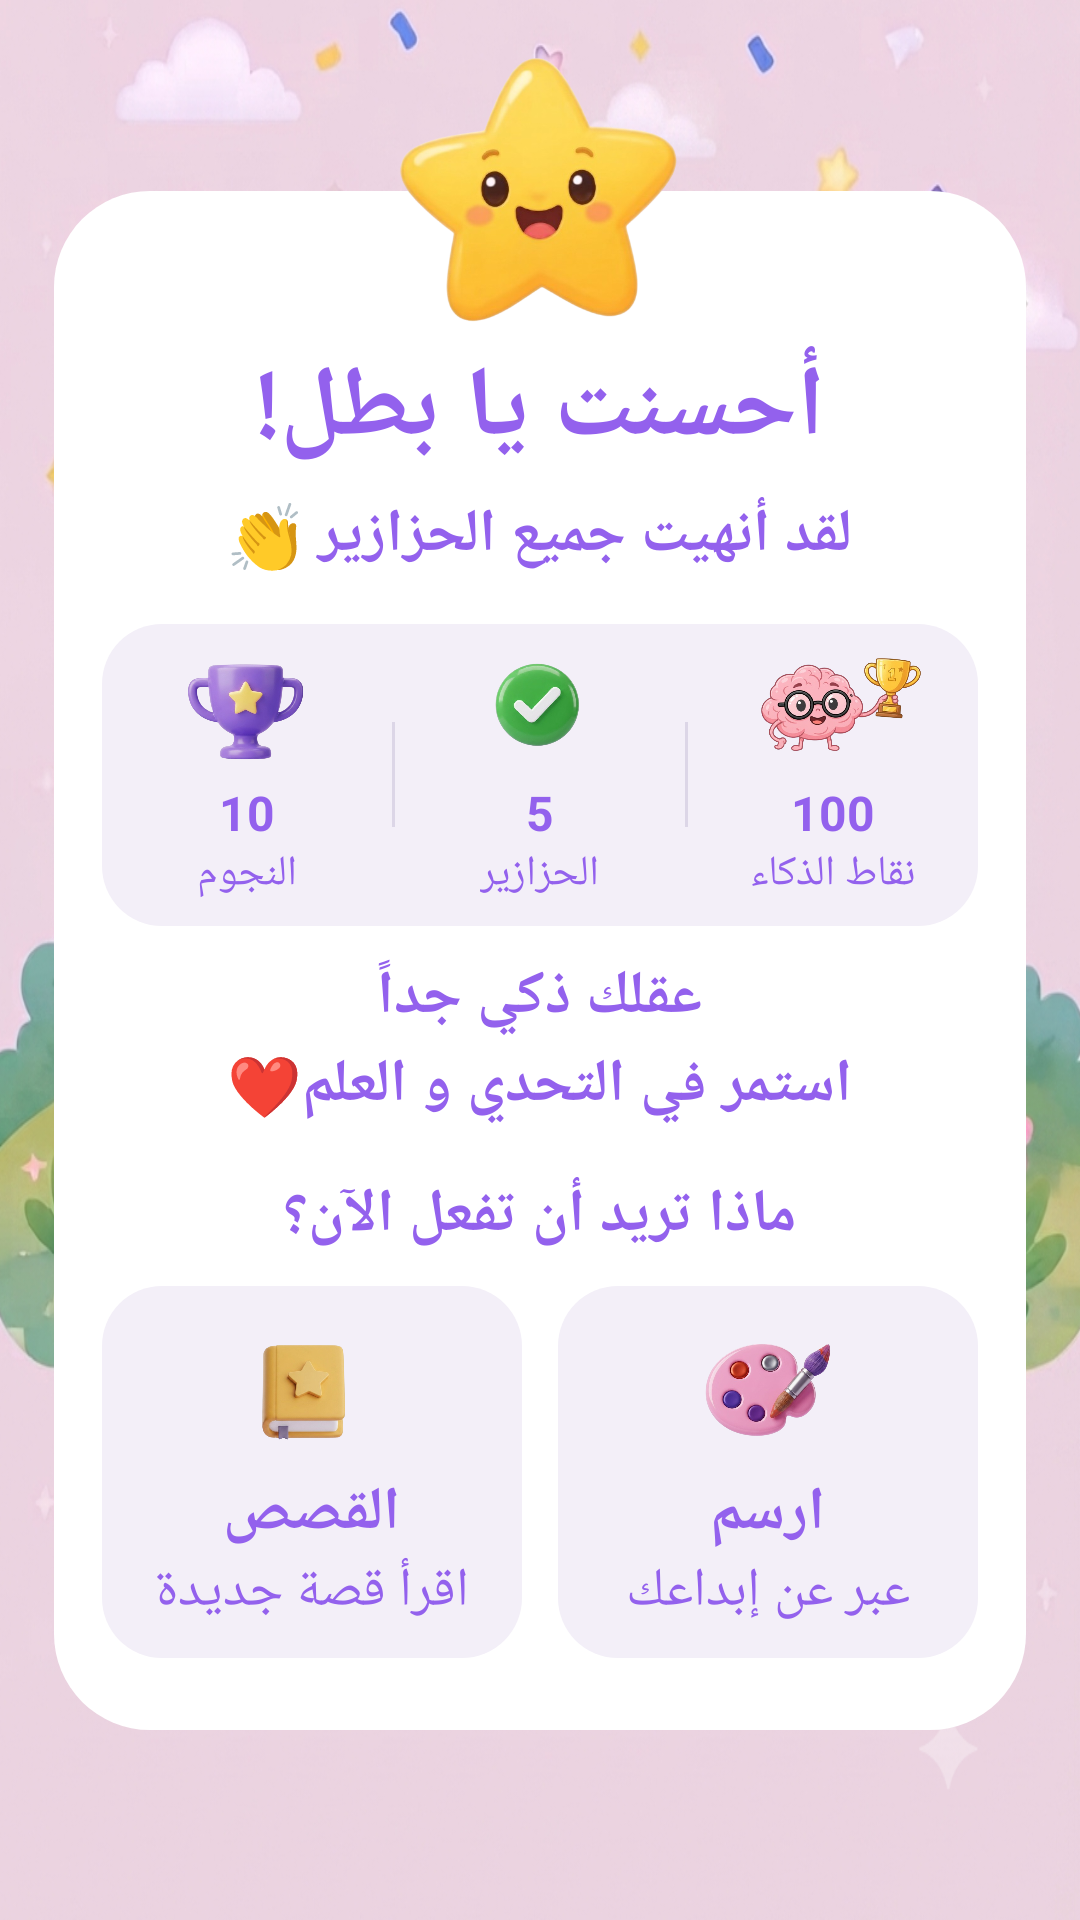

Screen size 1080*1920. Icon name, then its center in pixels as [x,y]:
cup winner: [245,711]
done puzzle: [537,705]
drow: [768,1390]
smart point: [841,704]
start: [540,190]
storys: [303,1392]
